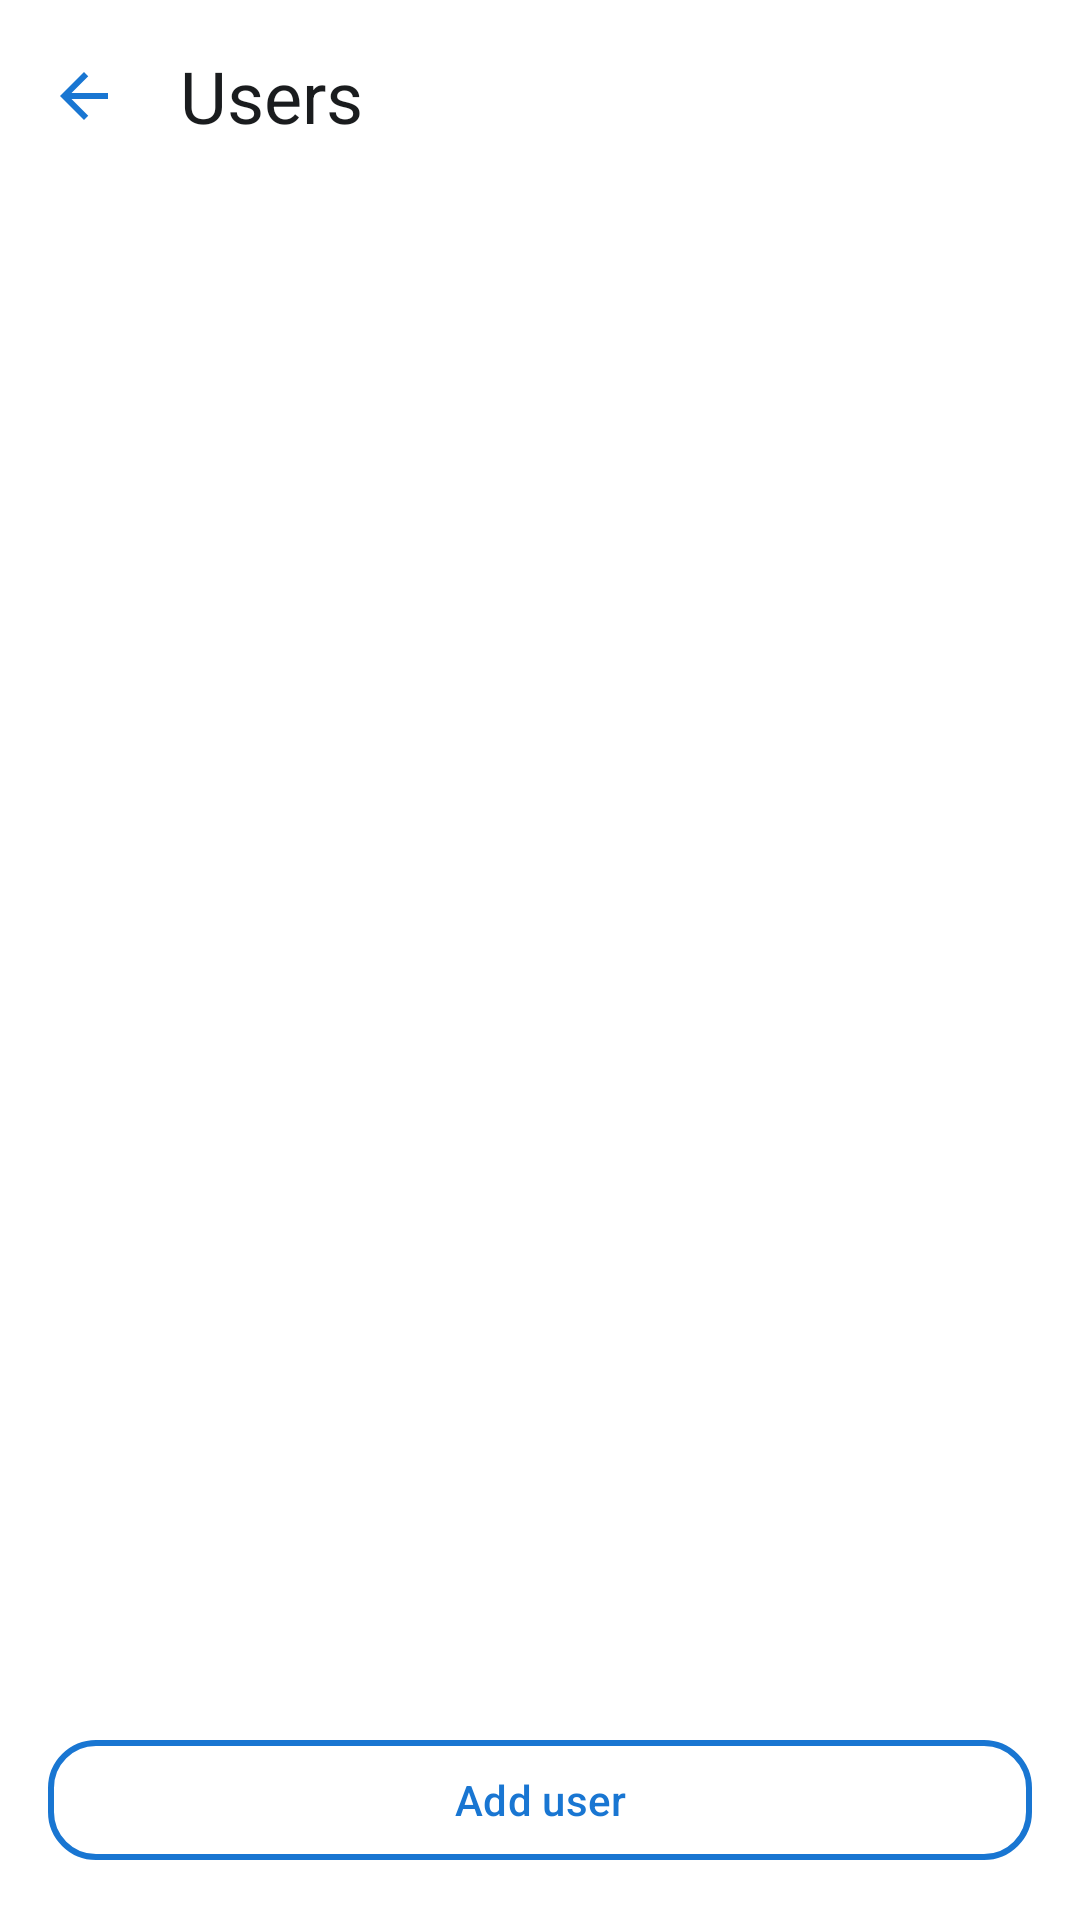

Icons on this 1080w x 1920h Android screen, each with its box as (x1, y1, x2, y2):
Back: (60, 72, 108, 120)
